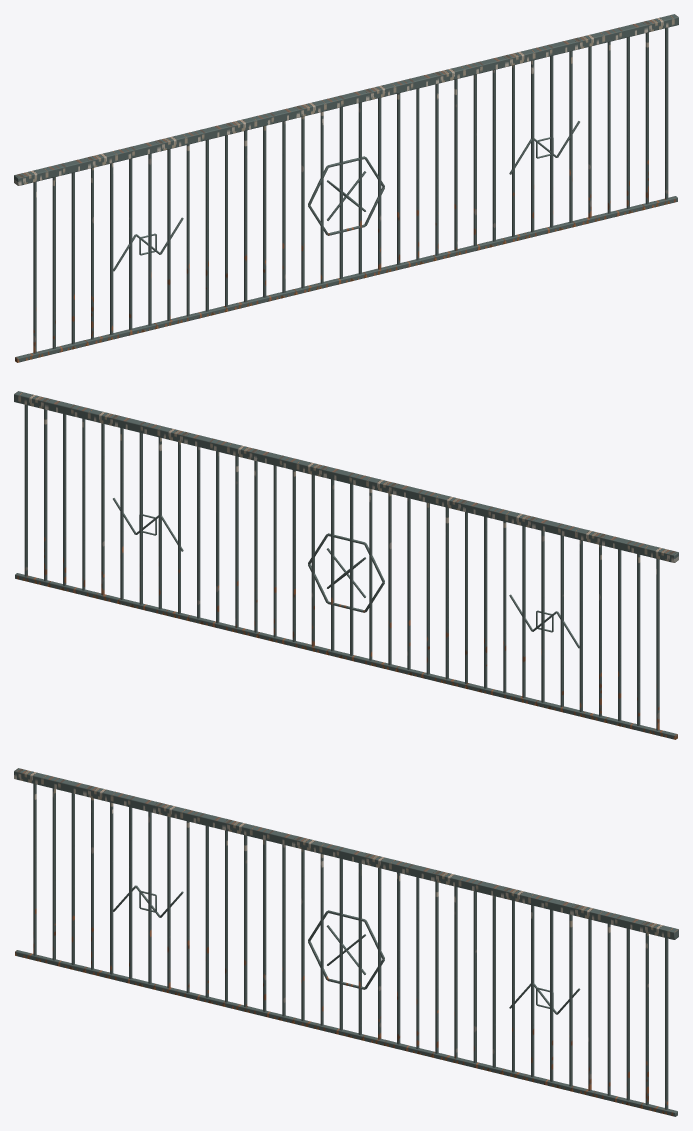
The model's file is LanCan_BanCong.glb.
3 renders of one model, top to bottom at view 1: azimuth 30°, elevation 25°; view 2: azimuth 150°, elevation 25°; view 3: azimuth 330°, elevation 25°, orthographic.
Visible parts, largest first — view 1: geometry_0; view 2: geometry_0; view 3: geometry_0.
Boxes of the visible parts, x1=… form: geometry_0: x1=14, y1=14, x2=678, y2=362; geometry_0: x1=14, y1=391, x2=678, y2=739; geometry_0: x1=14, y1=768, x2=678, y2=1116.
Size of the model in its own units: 3.8 by 1.02 by 0.045.
1 material, 1 textured.
